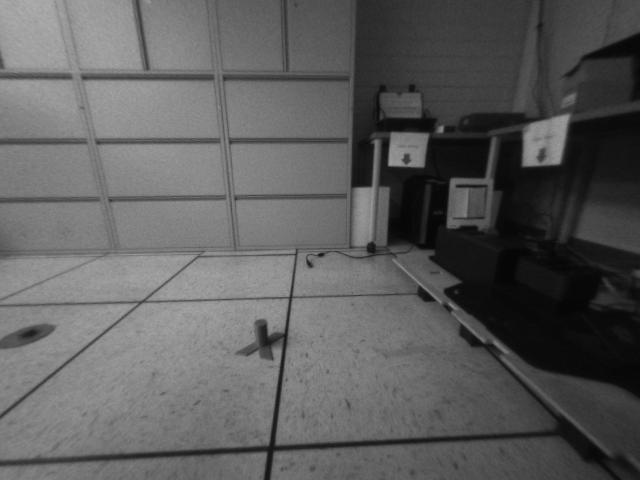X: (234, 317, 285, 360)
